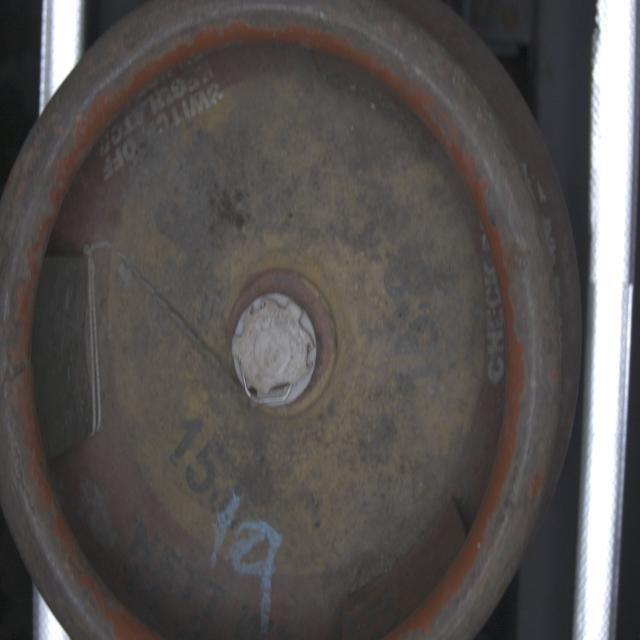Cap: (231, 288, 317, 411)
